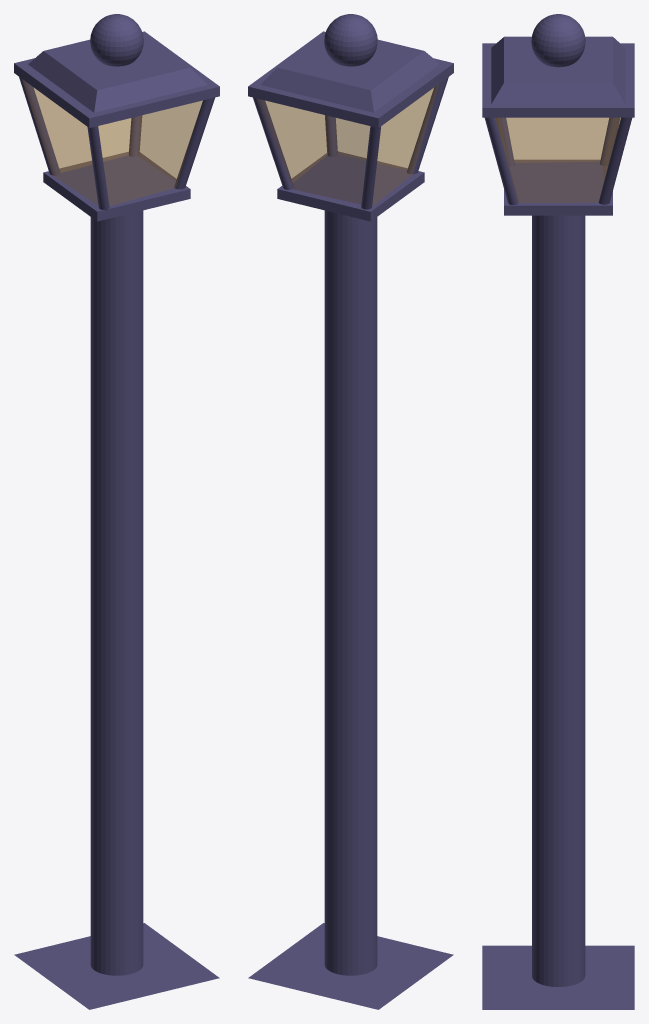
File: poste_top (2).obj
3 views of the same model, side by side, from view 1: azimuth 30°, elevation 25°; view 2: azimuth 150°, elevation 25°; view 3: azimuth 270°, elevation 25° (orthographic).
Parts seen in each view (by area): view 1: Cylinder, Cube.001_Cube.002, Plane, Cube_Cube.001, Cube.003_Cube.007, Cube.002_Cube.005, Sphere, Cylinder.002, Cylinder.004, Cylinder.005; view 2: Cylinder, Cube.001_Cube.002, Plane, Cube_Cube.001, Cube.003_Cube.007, Cube.002_Cube.005, Sphere, Cylinder.005, Cylinder.003, Cylinder.002; view 3: Cylinder, Cube.001_Cube.002, Plane, Cube_Cube.001, Cube.003_Cube.007, Cube.002_Cube.005, Sphere, Cylinder.004, Cylinder.003, Cylinder.002, Cylinder.005.
Boxes of the visible parts, x1,y1,x2,y2 form: Cylinder: (90,210,143,975); Cube.001_Cube.002: (22,79,202,205); Plane: (14,923,219,1009); Cube_Cube.001: (28,32,207,112); Cube.003_Cube.007: (43,152,190,221); Cube.002_Cube.005: (14,31,219,127); Sphere: (90,14,143,66); Cylinder.002: (19,77,60,175); Cylinder.004: (174,97,215,189); Cylinder.005: (87,126,109,210); Cylinder: (324,210,377,975); Cube.001_Cube.002: (258,84,438,206); Plane: (248,923,453,1009); Cube_Cube.001: (260,32,439,112); Cube.003_Cube.007: (277,151,424,221); Cube.002_Cube.005: (248,31,453,127); Sphere: (324,14,377,66); Cylinder.005: (407,77,448,174); Cylinder.003: (253,97,294,189); Cylinder.002: (361,126,380,209); Cylinder: (532,215,585,986); Cube.001_Cube.002: (495,117,620,202); Plane: (482,945,634,1009); Cube_Cube.001: (491,36,625,103); Cube.003_Cube.007: (504,160,612,215); Cube.002_Cube.005: (482,43,634,117); Sphere: (531,14,585,67); Cylinder.004: (484,117,518,204); Cylinder.003: (598,117,632,204); Cylinder.002: (600,117,619,165); Cylinder.005: (496,117,514,166).
Bounding box in the file's own units: 2.8 × 19.47 × 2.8.
